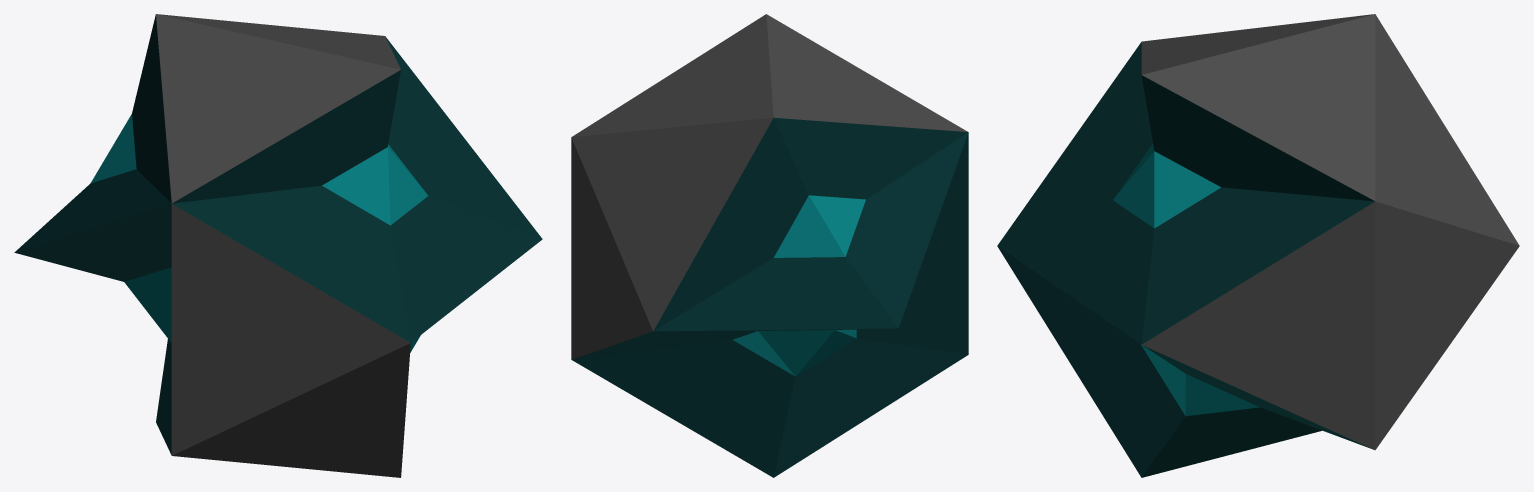
File: Meteor 5.fbx
3 views of the same model, side by side, from view 1: azimuth 30°, elevation 25°; view 2: azimuth 150°, elevation 25°; view 3: azimuth 270°, elevation 25° (orthographic). The views are drawn at different scales.
Visible parts, largest first — view 1: Icosphere; view 2: Icosphere; view 3: Icosphere.
Boxes of the visible parts, x1,y1,x2,y2 form: Icosphere: (14,14,542,477); Icosphere: (571,14,968,477); Icosphere: (997,14,1519,477).
Size of the model in its own units: 179 by 170 by 200.
